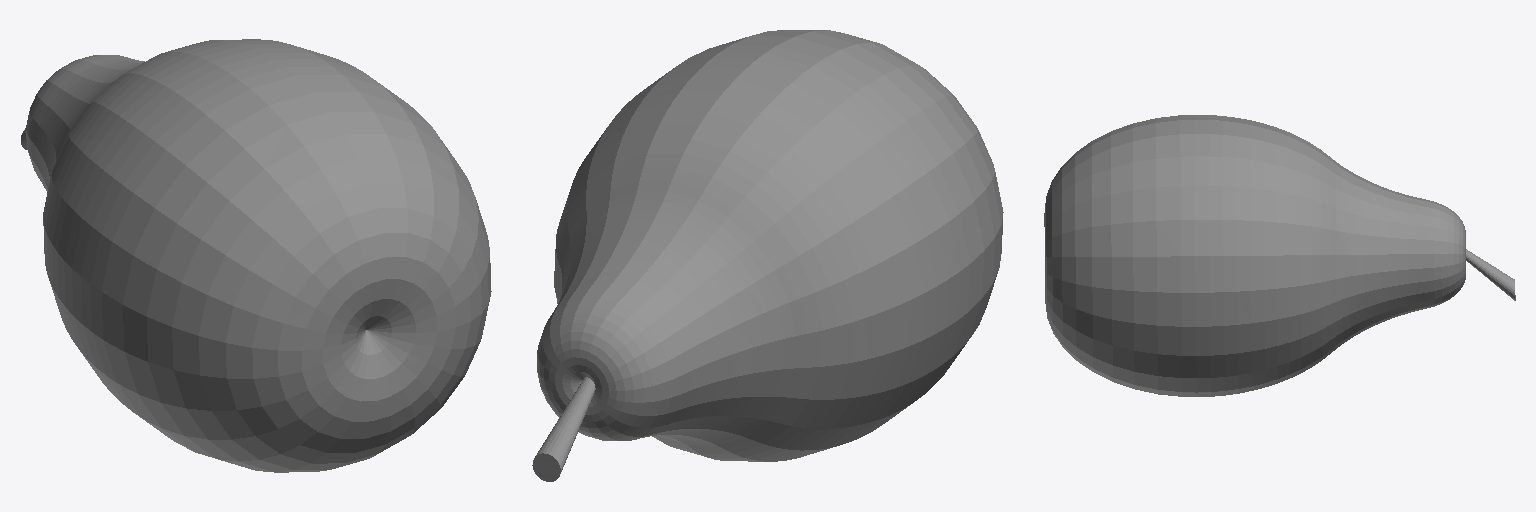
The robot description file, URDF, robot "cube.urdf":
<?xml version="0.0" ?> 
<robot name="cube.urdf"> 
<link name="legobrick"> 
<contact> 
<lateral_friction value="1.0"/>
<rolling_friction value="0.0"/>
<contact_cfm value="0.0"/>
<contact_erp value="1.0"/>
</contact> 
<inertial> 
<origin rpy="0 0 0" xyz="0.0 0.0 0.0"/> 
<mass value="0.1"/> 
<inertia ixx="1" ixy="0" ixz="0" iyy="1" iyz="0" izz="1"/> 
</inertial> 
<visual> 
<origin rpy="1.570796 0 0" xyz="-3.590831918491037e-07 -0.003577416808149419 -4.6000848896435995e-05"/> 
<geometry> 
<mesh filename="4dc44c77b66c82b9e7f746bc520f60fd.obj" scale="1 1 1"/> 
</geometry> 
<material name="yellow"> 
<color rgba="0.6 0.6 0.6 1"/> 
</material> 
</visual> 
<collision> 
<origin rpy="1.570796 0 0" xyz="-3.590831918491037e-07 -0.003577416808149419 -4.6000848896435995e-05"/> 
<geometry> 
<mesh filename="4dc44c77b66c82b9e7f746bc520f60fd_col.obj" scale="1 1 1"/> 
</geometry> 
</collision> 
</link> 
</robot>

--- Facts derived from the render (not from the file) ---
Views: 3 orthographic renders of the robot side by side, from view 1: azimuth 30°, elevation 25°; view 2: azimuth 150°, elevation 25°; view 3: azimuth 270°, elevation 25°.
Robot: cube.urdf — 1 links, 0 joints (none); root link legobrick; default pose: all joints at 0.
Links seen in each view (by area): view 1: legobrick; view 2: legobrick; view 3: legobrick.
Boxes of the visible links, left/top/right/bottom form: legobrick: left=21, top=39, right=491, bottom=472; legobrick: left=532, top=30, right=1003, bottom=481; legobrick: left=1044, top=115, right=1515, bottom=396.
Bounding box of the posed robot: 0.045 × 0.0753 × 0.045 m (x, y, z).
1 mesh visuals loaded from 1 distinct referenced files (1 OBJ).